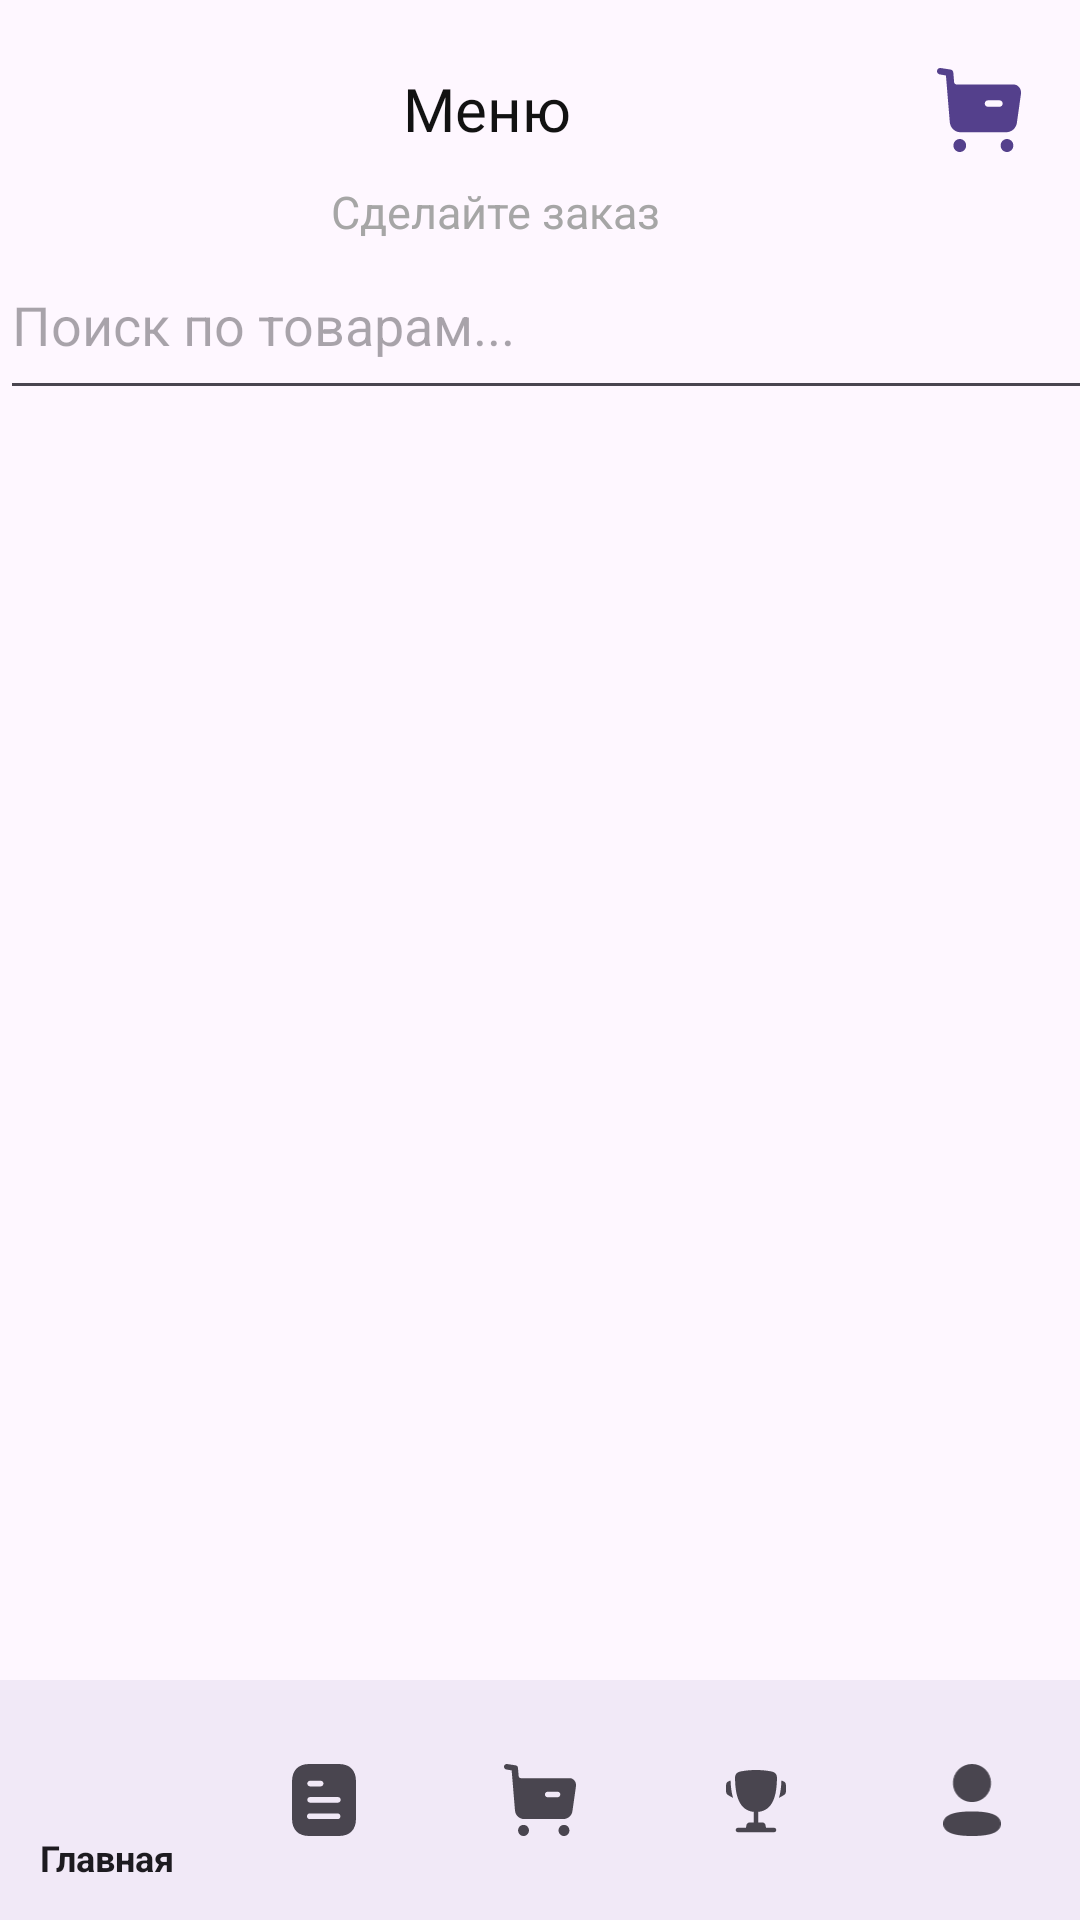

Screen size 1080w x 1920h. Icon name, then its center in pixels as (x,y):
buy: (979,110)
